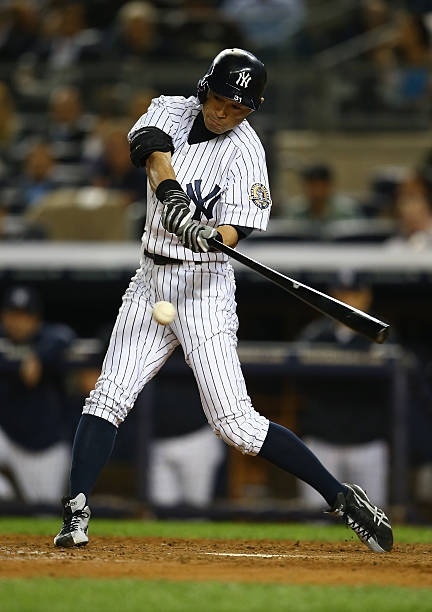bita: (197, 233, 395, 341)
